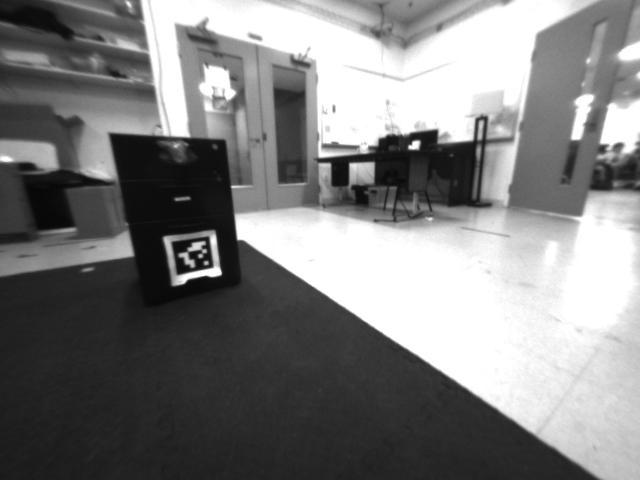door_handle: (245, 135, 263, 148)
drawer: (153, 136, 196, 169)
